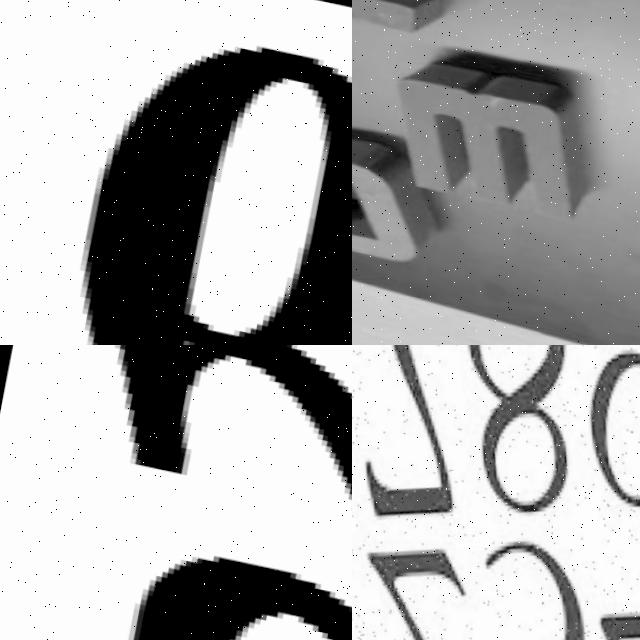2: (352, 516, 528, 640)
3: (432, 511, 640, 640)
4: (542, 483, 640, 640)
6: (18, 11, 352, 345)
7: (352, 345, 504, 544)
8: (414, 345, 622, 536)
9: (18, 345, 352, 640), (528, 345, 640, 528)
D: (352, 110, 446, 263)
W: (386, 44, 609, 218)
